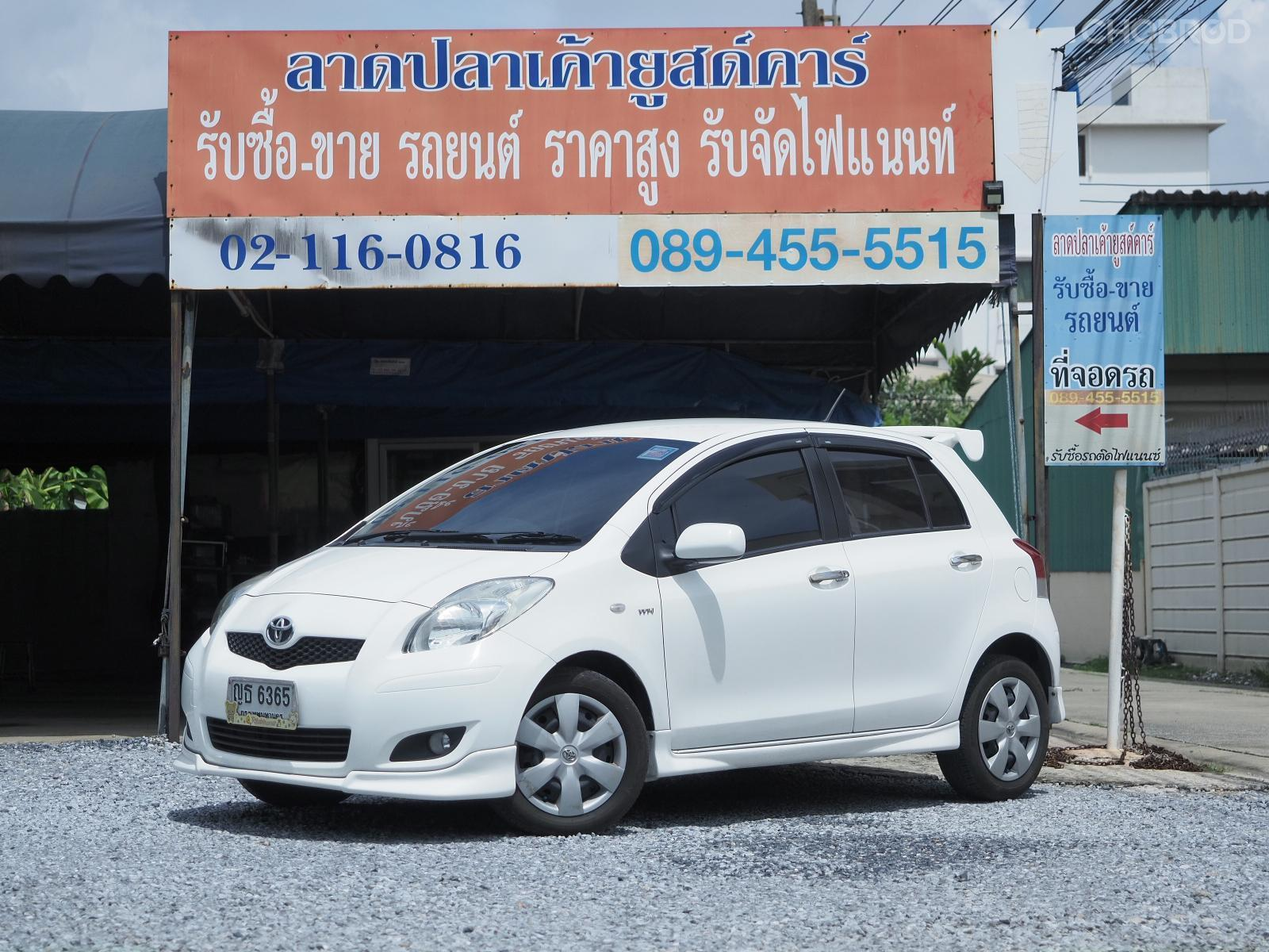license-plate: (224, 672, 303, 734)
